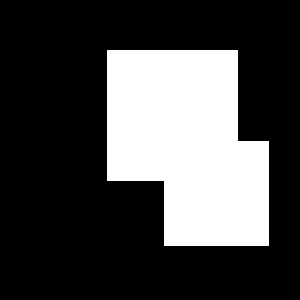circle: (107, 50, 238, 181), (164, 141, 269, 246)
